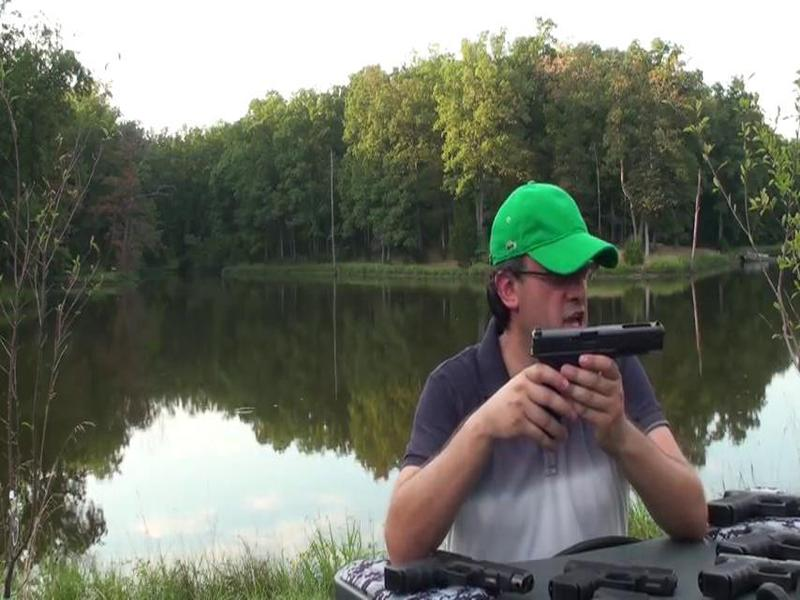Pistola: (527, 316, 670, 385), (383, 540, 537, 596), (549, 547, 687, 599)
